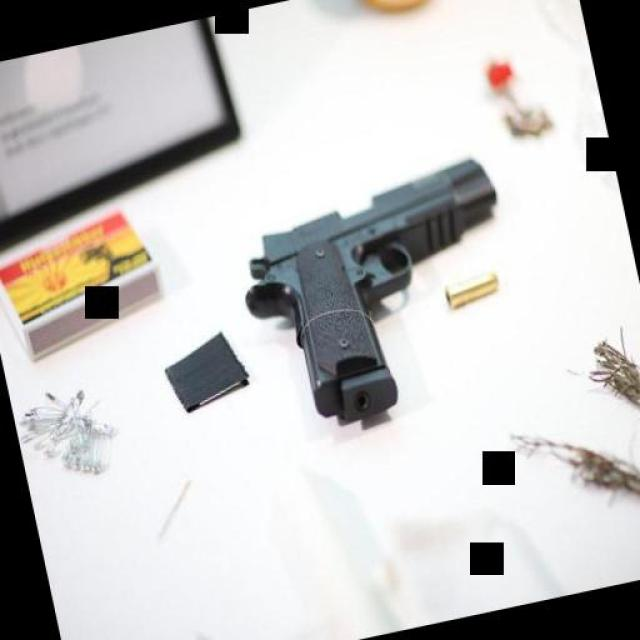gun: (220, 147, 541, 445)
